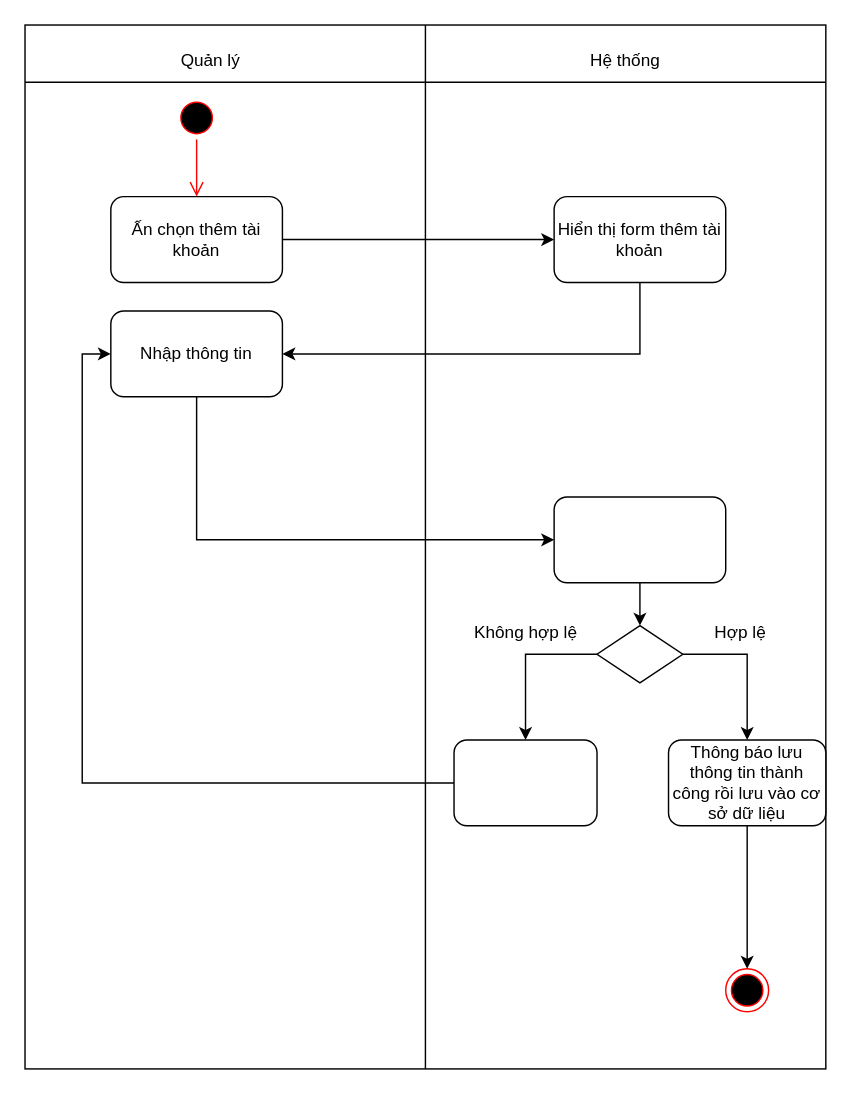
Some shapes in this 851 by 1094 pixel diagram are drawn without their labels. Each missing label, with the box of its shape:
Check định dạng, check null: (553, 495, 726, 583)
Thông báo dữ liệu không hợp lệ: (453, 739, 597, 826)
